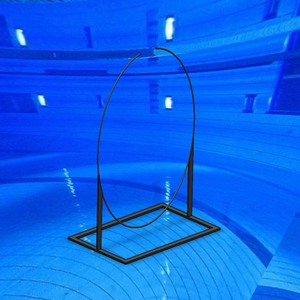circle: (68, 46, 222, 265)
